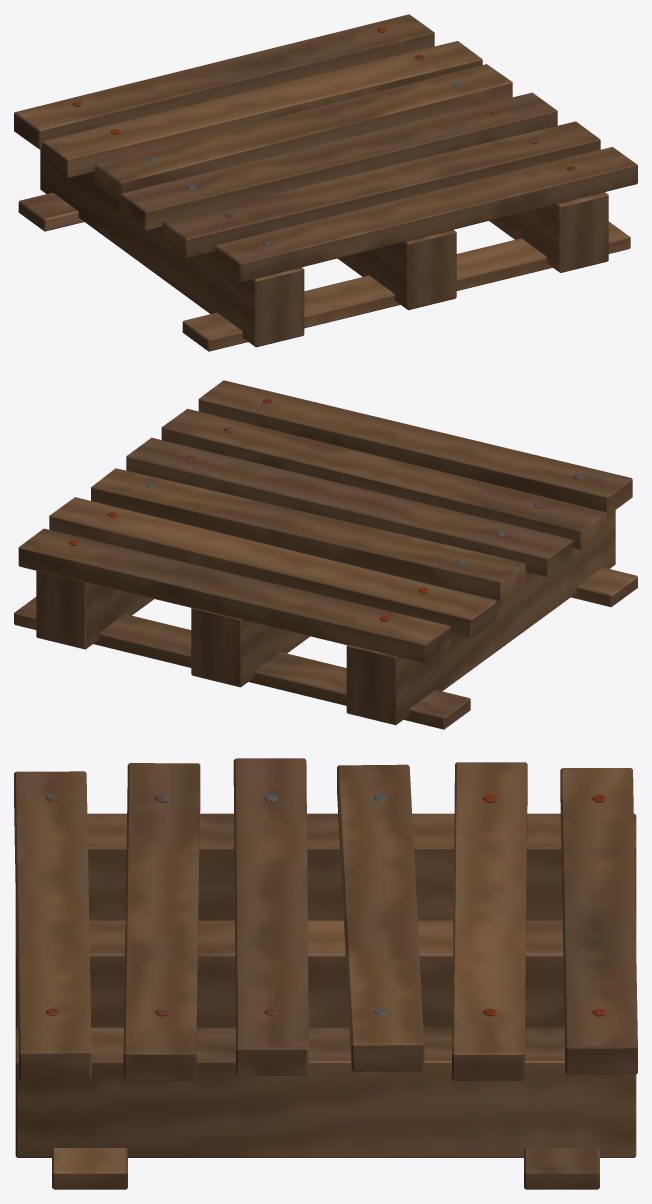
Rendered from pallet-41.glb.
3 renders of one model, top to bottom at view 1: azimuth 30°, elevation 25°; view 2: azimuth 150°, elevation 25°; view 3: azimuth 270°, elevation 25°, orthographic. The views are drawn at different scales.
Parts seen in each view (by area): view 1: pallet-41; view 2: pallet-41; view 3: pallet-41.
Part boxes in pixels (x1,y1,x2,y2): pallet-41: (14, 14, 637, 351); pallet-41: (14, 380, 637, 729); pallet-41: (14, 758, 637, 1189).
Bounding box in the file's own units: 1.12 × 0.241 × 0.9878.
Materials: 2 (2 with a texture image).
